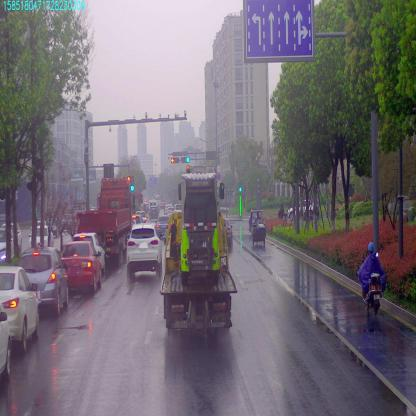traffic-light: (180, 155, 191, 162), (170, 155, 178, 163)
